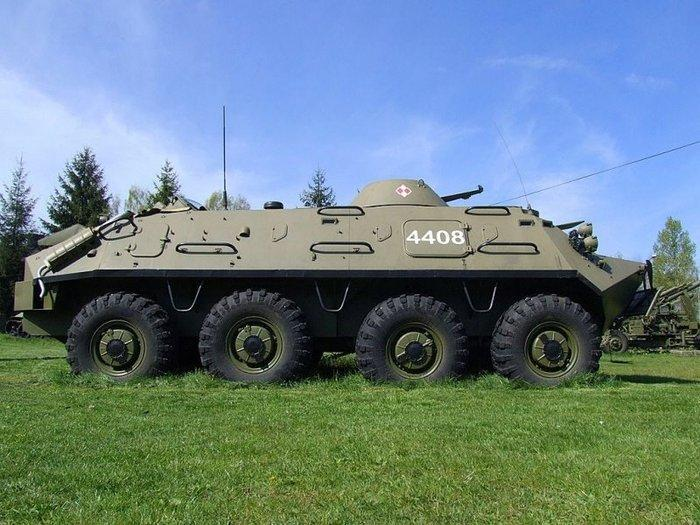MIL_IFV: (14, 177, 656, 388)
